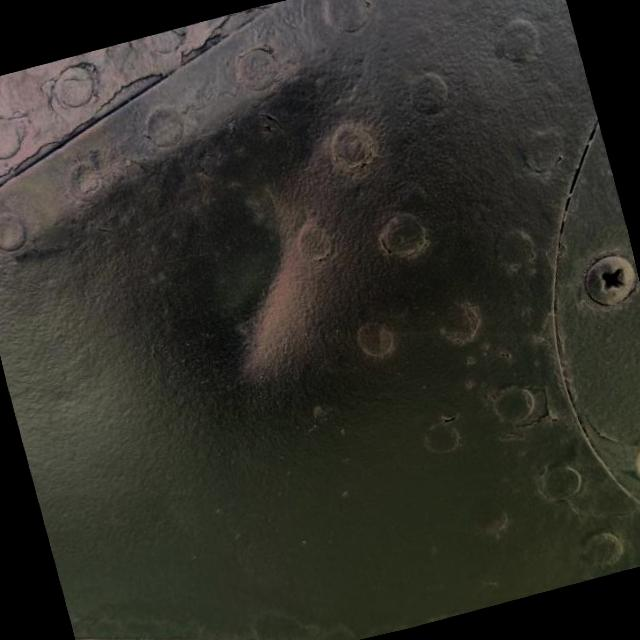Missing Fastener: (629, 434, 640, 485)
dent: (109, 58, 436, 419)
